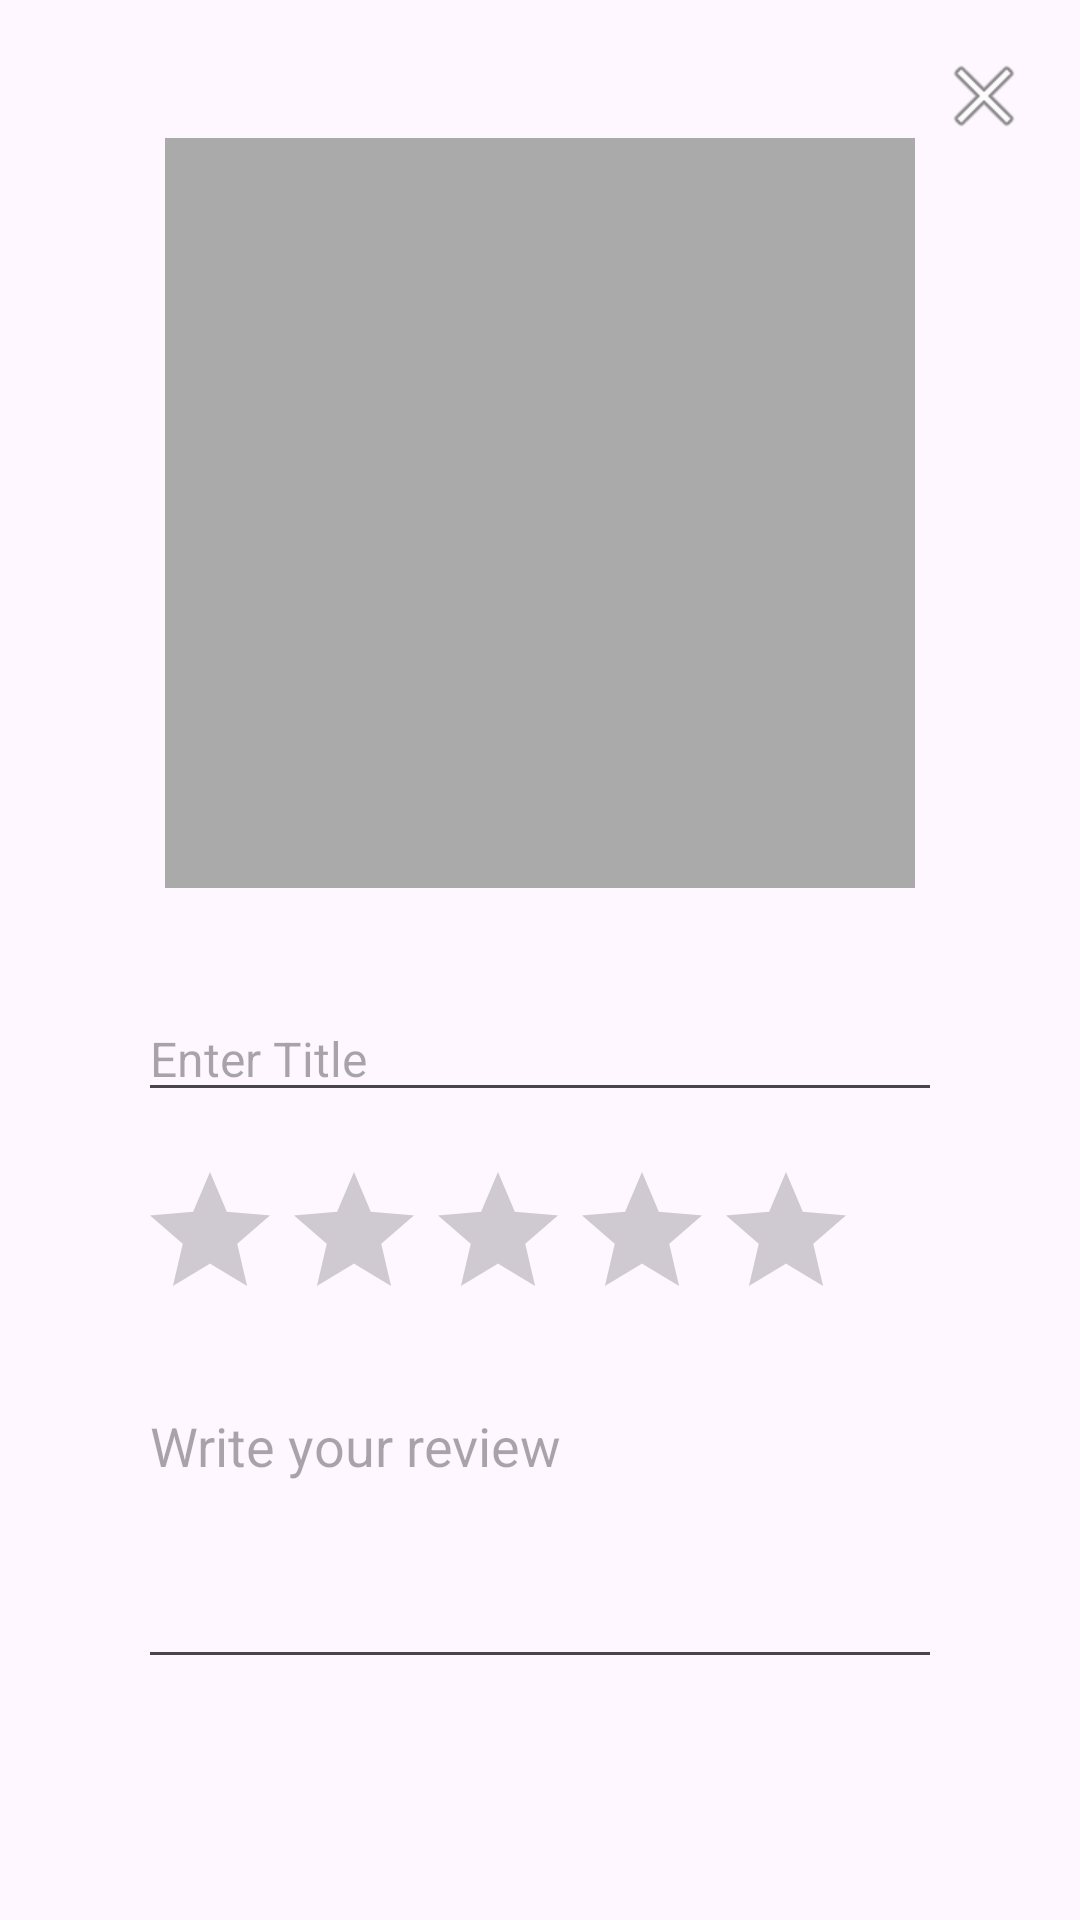

Where to tap for icons on this 1080×1920 app screen, as (x,y):
Close: (984,96)
